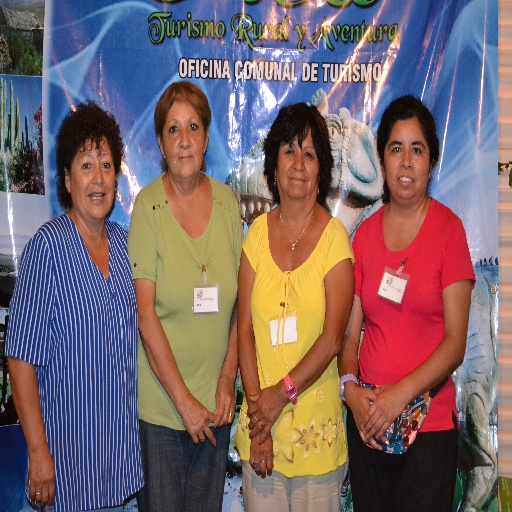hand: (244, 382, 286, 449), (347, 389, 390, 452), (362, 385, 404, 440), (179, 394, 219, 450), (29, 448, 55, 508), (214, 377, 237, 431), (250, 429, 274, 478)
